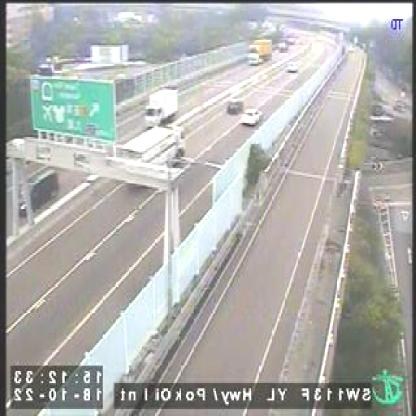Car: (16, 165, 60, 220), (240, 107, 263, 128), (225, 95, 244, 115), (286, 59, 300, 75)
Truck: (123, 124, 187, 172), (144, 87, 178, 126), (248, 39, 274, 68)
